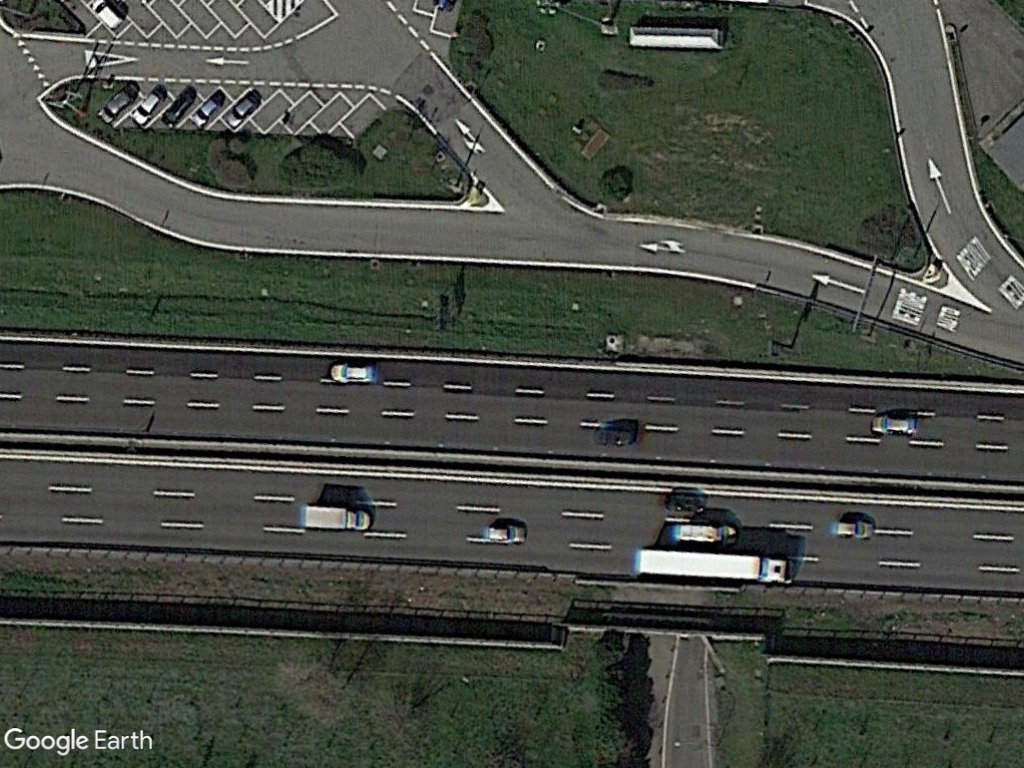car: (223, 89, 265, 130), (128, 88, 166, 127), (99, 84, 133, 123), (869, 412, 921, 437), (190, 91, 224, 129), (326, 361, 379, 385)
longvehicle: (628, 543, 800, 586)
truck: (297, 502, 377, 533)
van: (88, 0, 127, 31)
